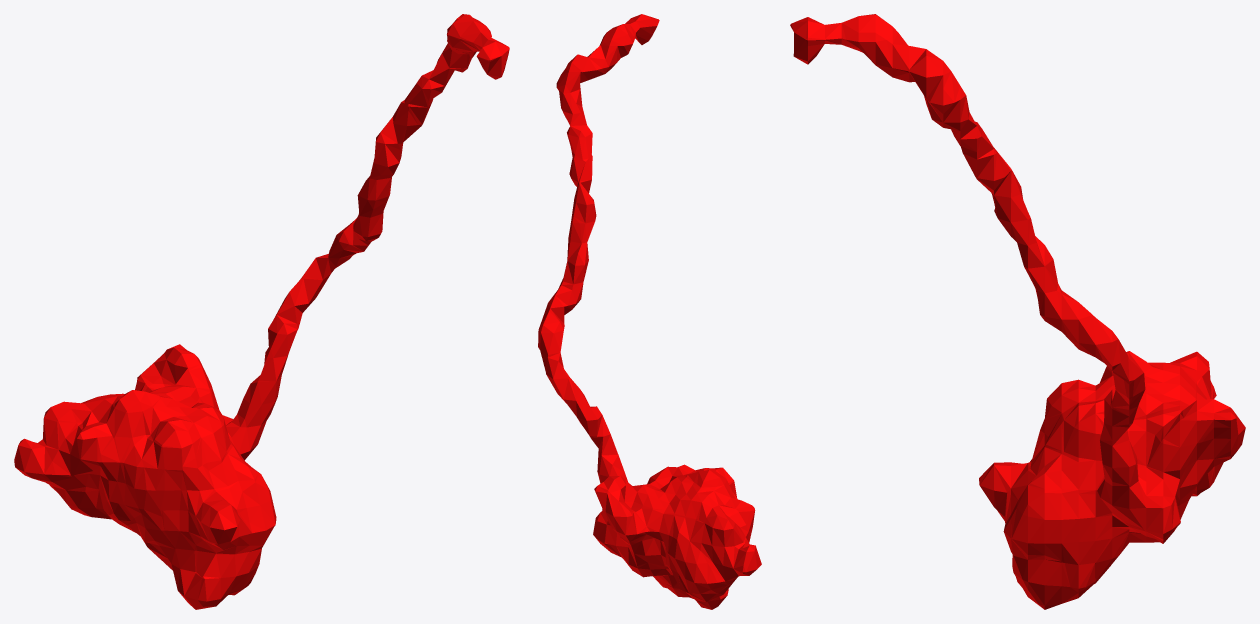
Rendered from yjgR_coarse.dae.
3 renders of one model, left to right at view 1: azimuth 30°, elevation 25°; view 2: azimuth 150°, elevation 25°; view 3: azimuth 270°, elevation 25°, orthographic. The views are drawn at different scales.
Parts seen in each view (by area): view 1: yjgR; view 2: yjgR; view 3: yjgR.
Part boxes in pixels (left/top/right/bottom): yjgR: left=14, top=14, right=509, bottom=609; yjgR: left=538, top=14, right=761, bottom=609; yjgR: left=790, top=14, right=1245, bottom=609.
Size of the model in its own units: 123 by 200 by 120.
